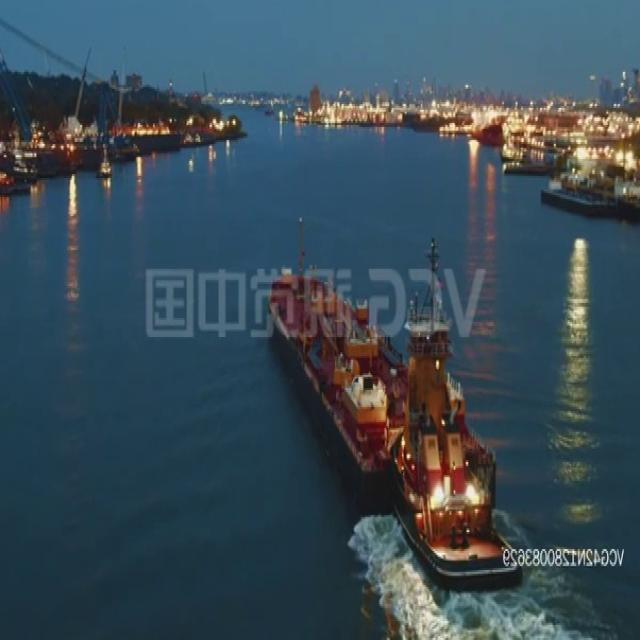cargoship: (268, 271, 518, 586)
